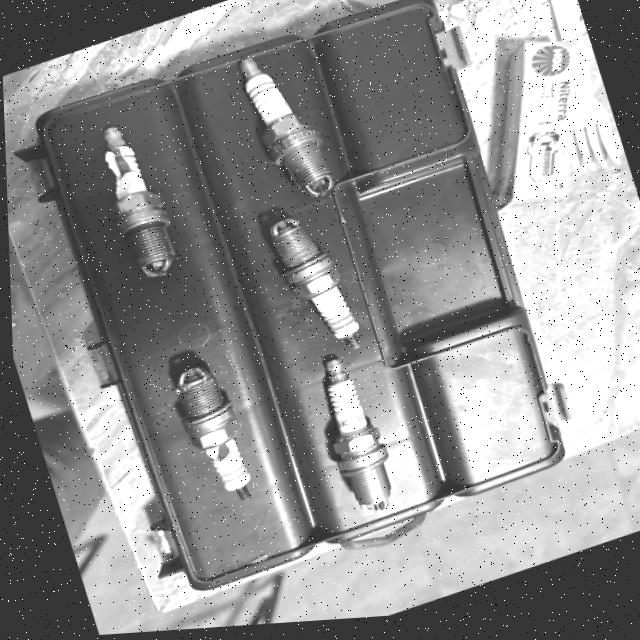damaged_spark-plug: (155, 348, 267, 517), (87, 113, 186, 296)
spark-plug: (287, 348, 405, 535), (224, 40, 340, 221), (254, 203, 368, 374)
